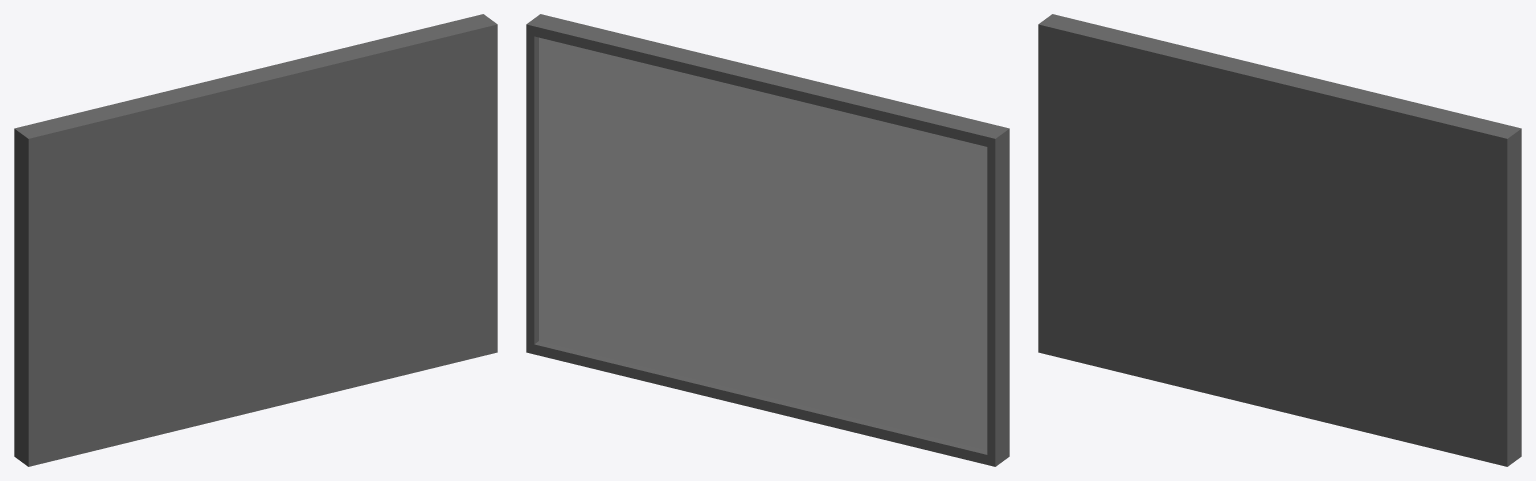
File: Papan Tulis.fbx
The picture shows the model from 3 angles, left to right: view 1: azimuth 30°, elevation 25°; view 2: azimuth 150°, elevation 25°; view 3: azimuth 330°, elevation 25°; orthographic projection.
Parts seen in each view (by area): view 1: Plane.012; view 2: Plane.012; view 3: Plane.012.
Boxes of the visible parts, left/top/right/bottom form: Plane.012: left=14, top=14, right=497, bottom=466; Plane.012: left=526, top=14, right=1009, bottom=466; Plane.012: left=1038, top=14, right=1521, bottom=466.
Bounding box in the file's own units: 491 × 328 × 25.79.
Materials: 1 (1 with a texture image).
